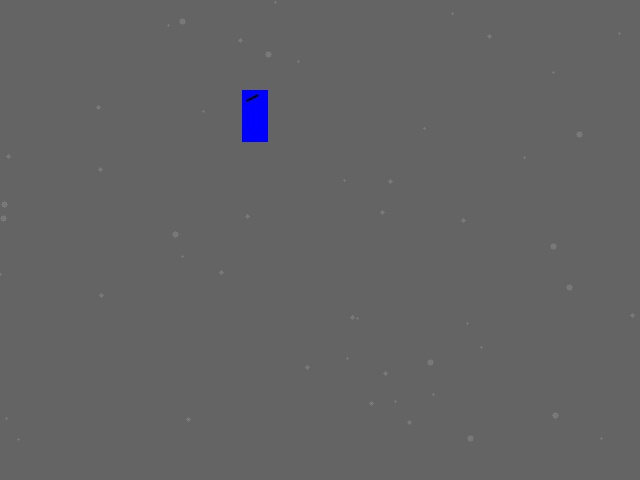motorcycle: (242, 90, 267, 141)
